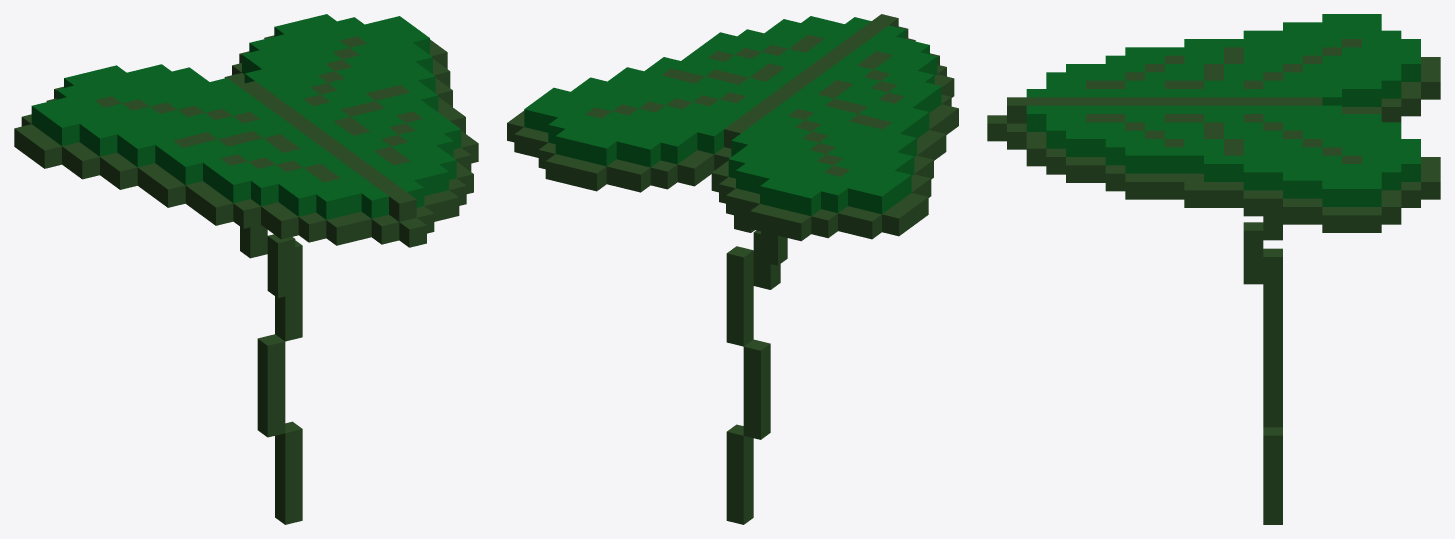
File: boloto (2)-4.obj
3 views of the same model, side by side, from view 1: azimuth 30°, elevation 25°; view 2: azimuth 150°, elevation 25°; view 3: azimuth 270°, elevation 25° (orthographic). The views are drawn at different scales.
Bounding box in the file's own units: 2.3 × 2.3 × 2.3.
1 material, 1 textured.
